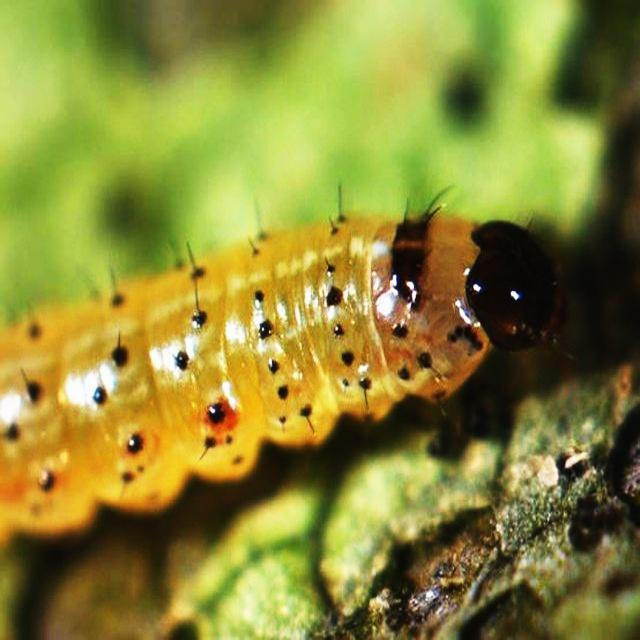gusano_cogollero: (0, 188, 571, 549)
